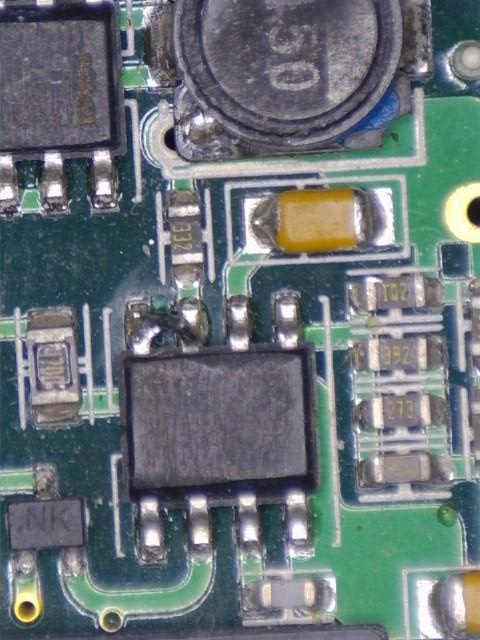pcb_defect: (125, 298, 208, 356)
